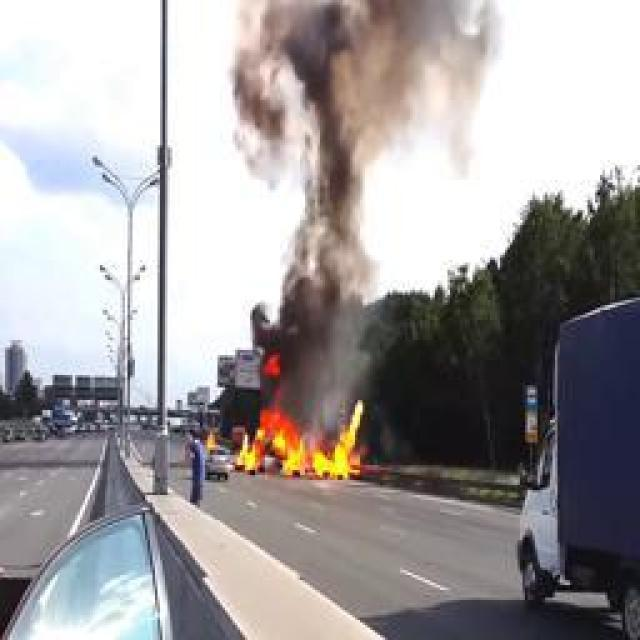Fire: (238, 390, 364, 480)
